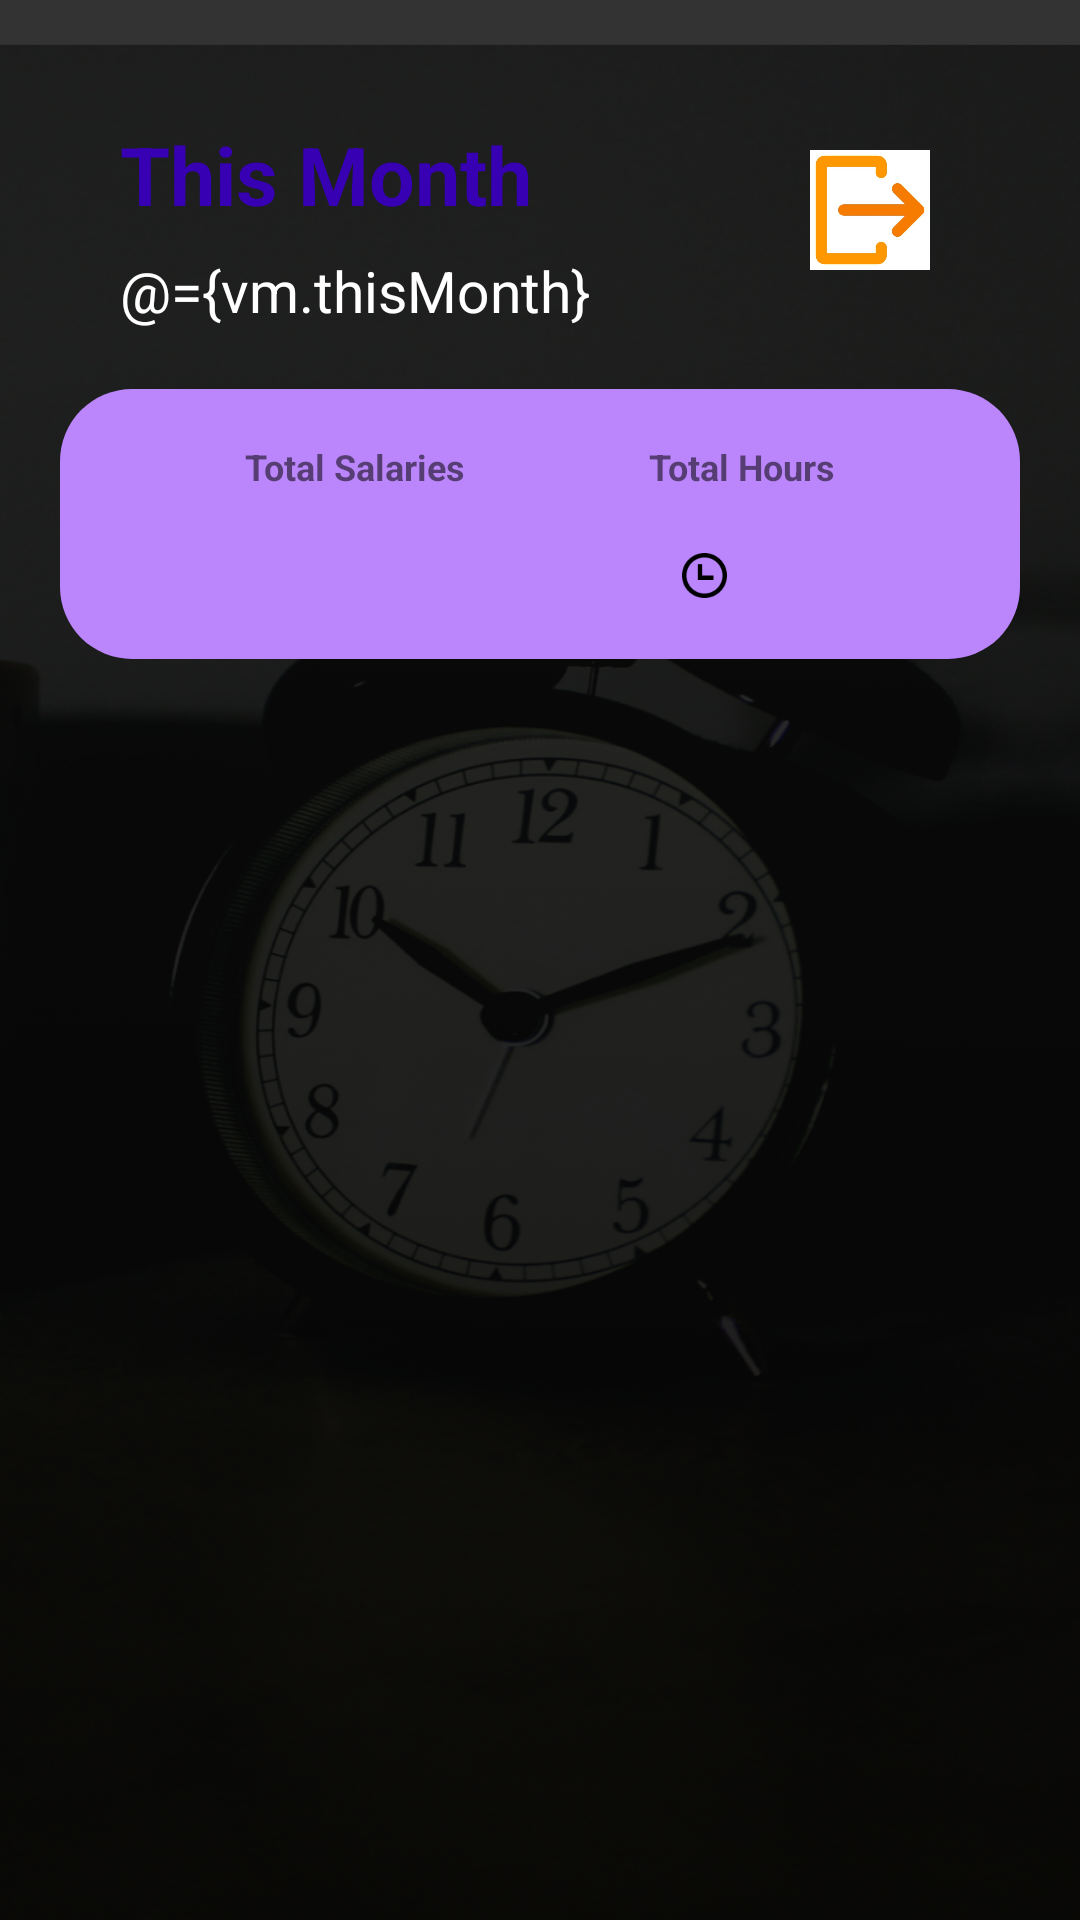

Screen size 1080*1920. Icon name, then its box in pixels as rect(x1, y1, x2, y2):
time: rect(682, 553, 727, 598)
